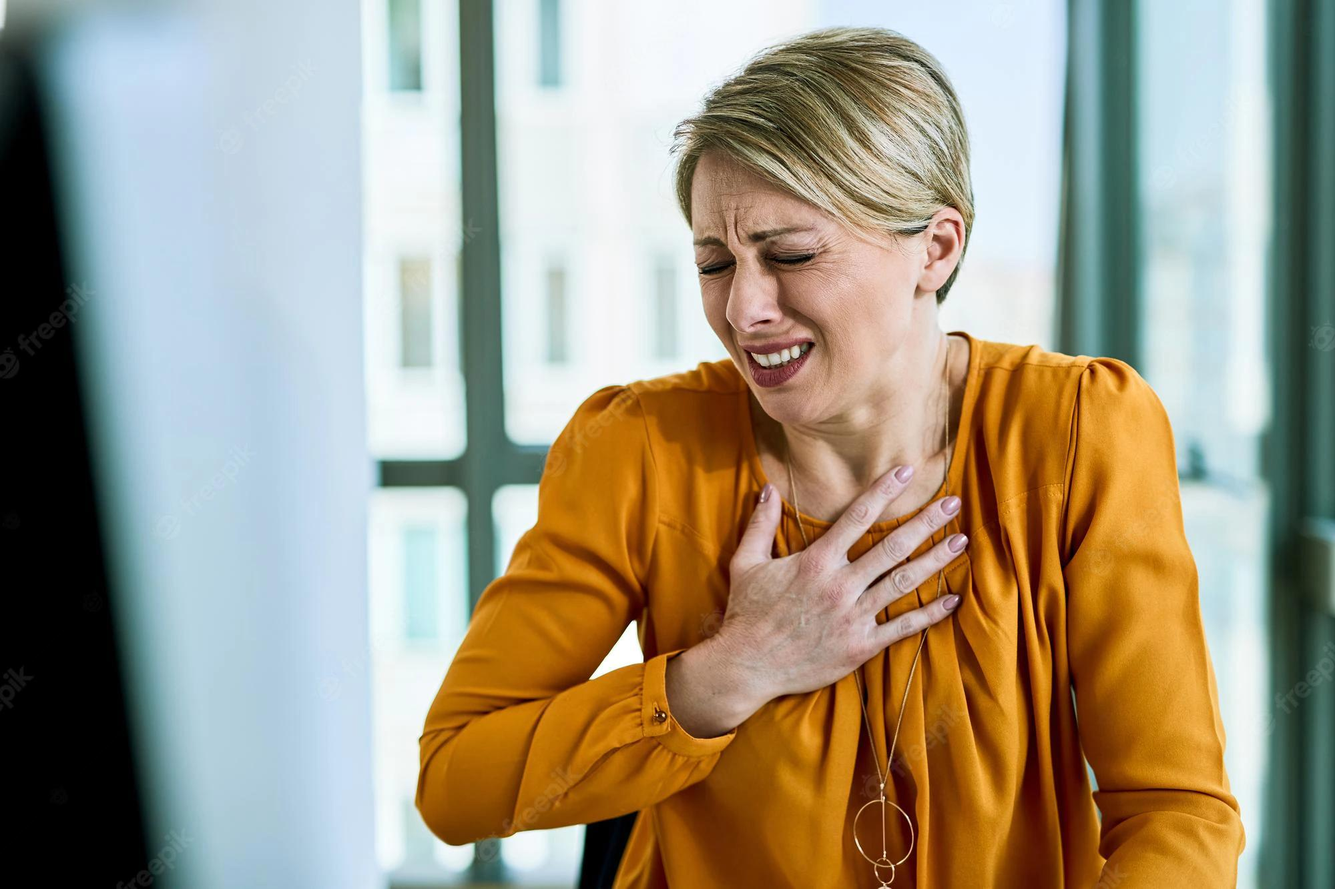pain: (664, 209, 845, 281)
